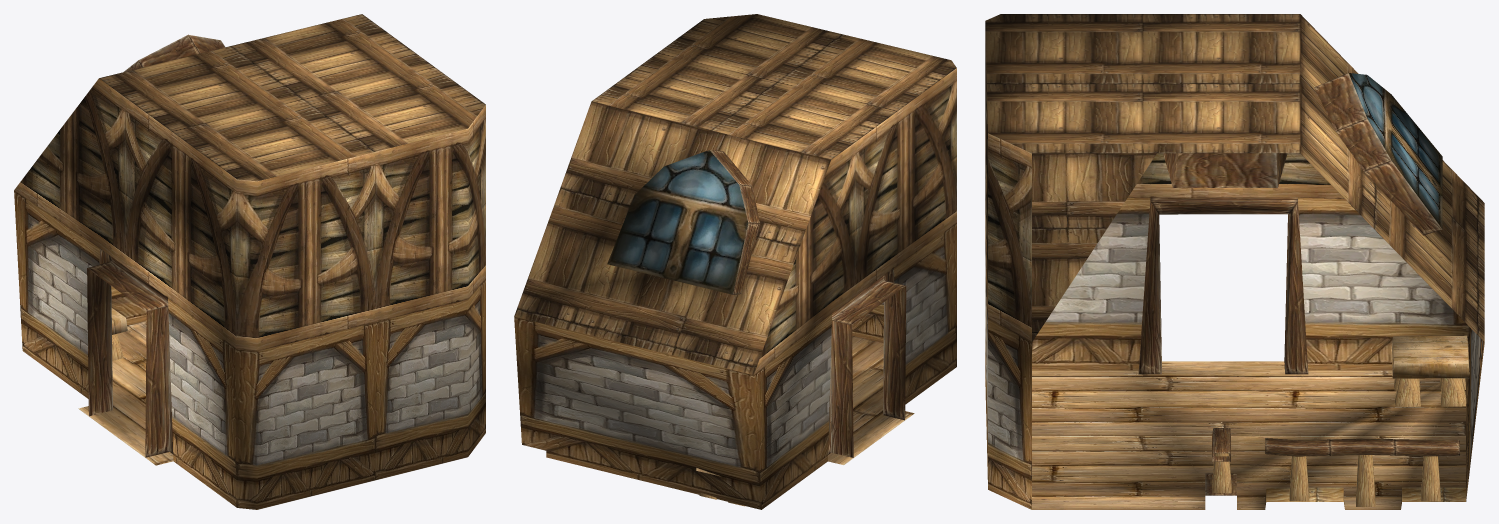
The model's file is stormwind_064.fbx.
3 views of the same model, side by side, from view 1: azimuth 30°, elevation 25°; view 2: azimuth 150°, elevation 25°; view 3: azimuth 270°, elevation 25° (orthographic). The views are drawn at different scales.
Parts seen in each view (by area): view 1: stormwind_064_49, stormwind_064_87, stormwind_064_55, stormwind_064_53, stormwind_064_51, stormwind_064_54; view 2: stormwind_064_55, stormwind_064_87, stormwind_064_49, stormwind_064_84, stormwind_064_53, stormwind_064_51; view 3: stormwind_064_55, stormwind_064_51, stormwind_064_87, stormwind_064_53, stormwind_064_49, stormwind_064_54, stormwind_064_84.
Part boxes in pixels (left/top/right/bottom): stormwind_064_49: left=14, top=78, right=485, bottom=351; stormwind_064_87: left=14, top=190, right=485, bottom=509; stormwind_064_55: left=99, top=14, right=485, bottom=181; stormwind_064_53: left=87, top=34, right=224, bottom=457; stormwind_064_51: left=78, top=320, right=173, bottom=465; stormwind_064_54: left=111, top=308, right=127, bottom=360; stormwind_064_55: left=514, top=14, right=956, bottom=374; stormwind_064_87: left=514, top=223, right=956, bottom=509; stormwind_064_49: left=754, top=68, right=956, bottom=374; stormwind_064_84: left=607, top=150, right=748, bottom=294; stormwind_064_53: left=710, top=150, right=906, bottom=457; stormwind_064_51: left=828, top=336, right=914, bottom=464; stormwind_064_55: left=985, top=14, right=1484, bottom=341; stormwind_064_51: left=1032, top=361, right=1465, bottom=509; stormwind_064_87: left=985, top=197, right=1484, bottom=509; stormwind_064_53: left=1138, top=73, right=1465, bottom=508; stormwind_064_49: left=985, top=30, right=1344, bottom=342; stormwind_064_54: left=1212, top=335, right=1469, bottom=506; stormwind_064_84: left=1348, top=73, right=1442, bottom=229.
Bounding box in the file's own units: 7.58 × 8.49 × 10.76.
